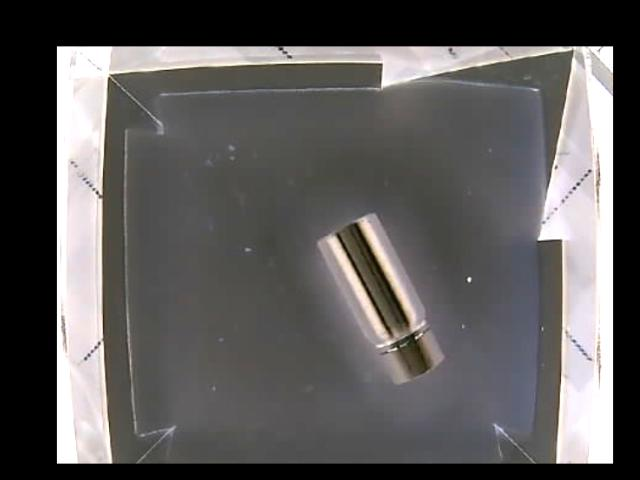Bottle: (317, 212, 447, 381)
